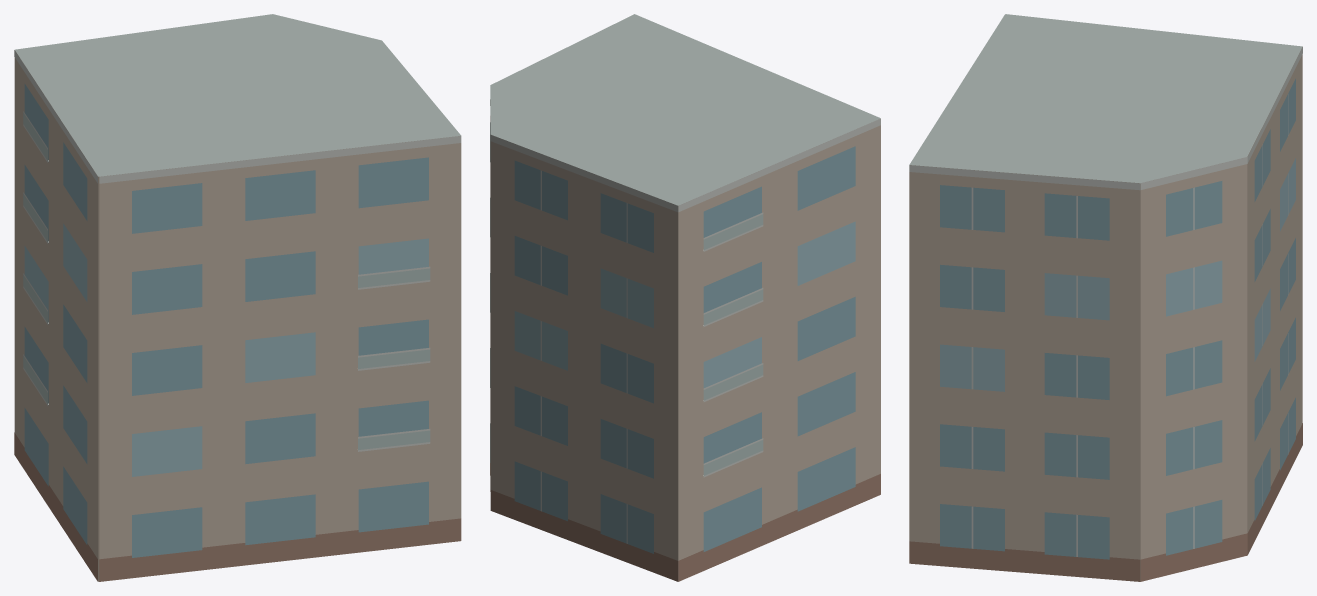
File: survey-upis-32879250.glb
The picture shows the model from 3 angles, left to right: view 1: azimuth 30°, elevation 25°; view 2: azimuth 150°, elevation 25°; view 3: azimuth 270°, elevation 25°; orthographic projection. The views are drawn at different scales.
Parts seen in each view (by area): view 1: survey-upis-32879250.tmp; view 2: survey-upis-32879250.tmp; view 3: survey-upis-32879250.tmp.
Boxes of the visible parts, left/top/right/bottom form: survey-upis-32879250.tmp: left=14, top=14, right=461, bottom=581; survey-upis-32879250.tmp: left=490, top=14, right=880, bottom=581; survey-upis-32879250.tmp: left=909, top=14, right=1302, bottom=581.
Bounding box in the file's own units: 12.57 × 13.8 × 12.36.
